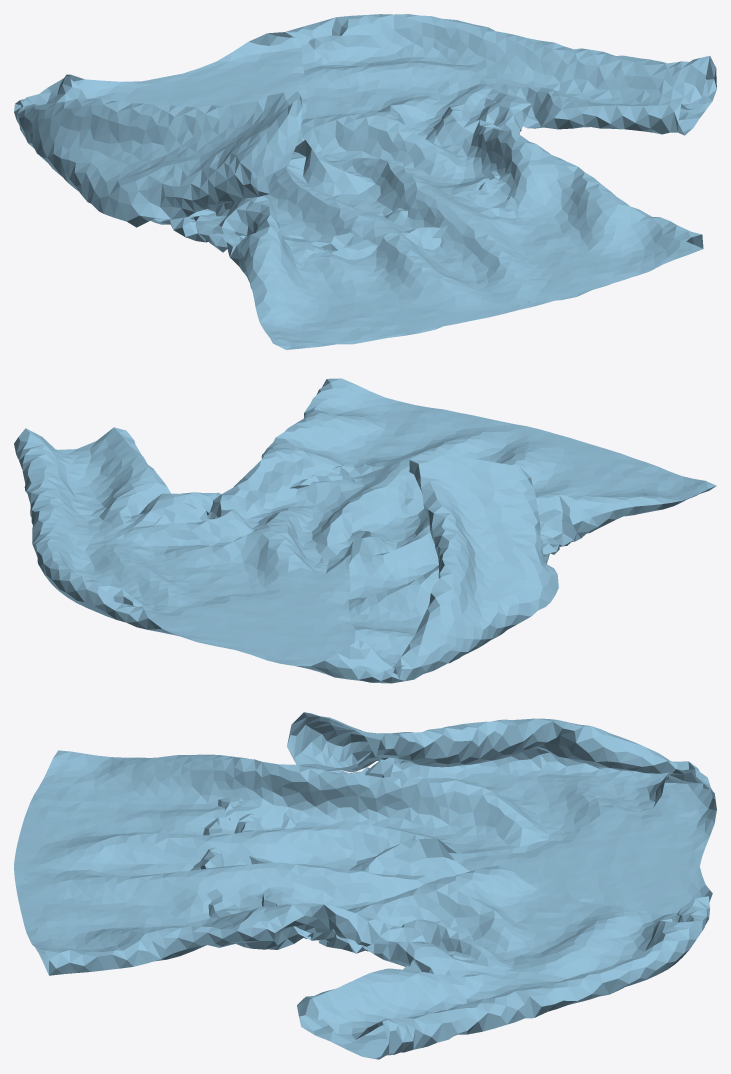
Rendered from frame_16.glb.
The picture shows the model from 3 angles, top to bottom: view 1: azimuth 30°, elevation 25°; view 2: azimuth 150°, elevation 25°; view 3: azimuth 270°, elevation 25°; orthographic projection. The views are drawn at different scales.
Visible parts, largest first — view 1: frame_16.obj; view 2: frame_16.obj; view 3: frame_16.obj.
Boxes of the visible parts, <box> form: frame_16.obj: <box>14,14,716,349</box>; frame_16.obj: <box>14,378,716,683</box>; frame_16.obj: <box>14,712,716,1059</box>.
Bounding box in the file's own units: 1.54 × 0.2715 × 1.49.
